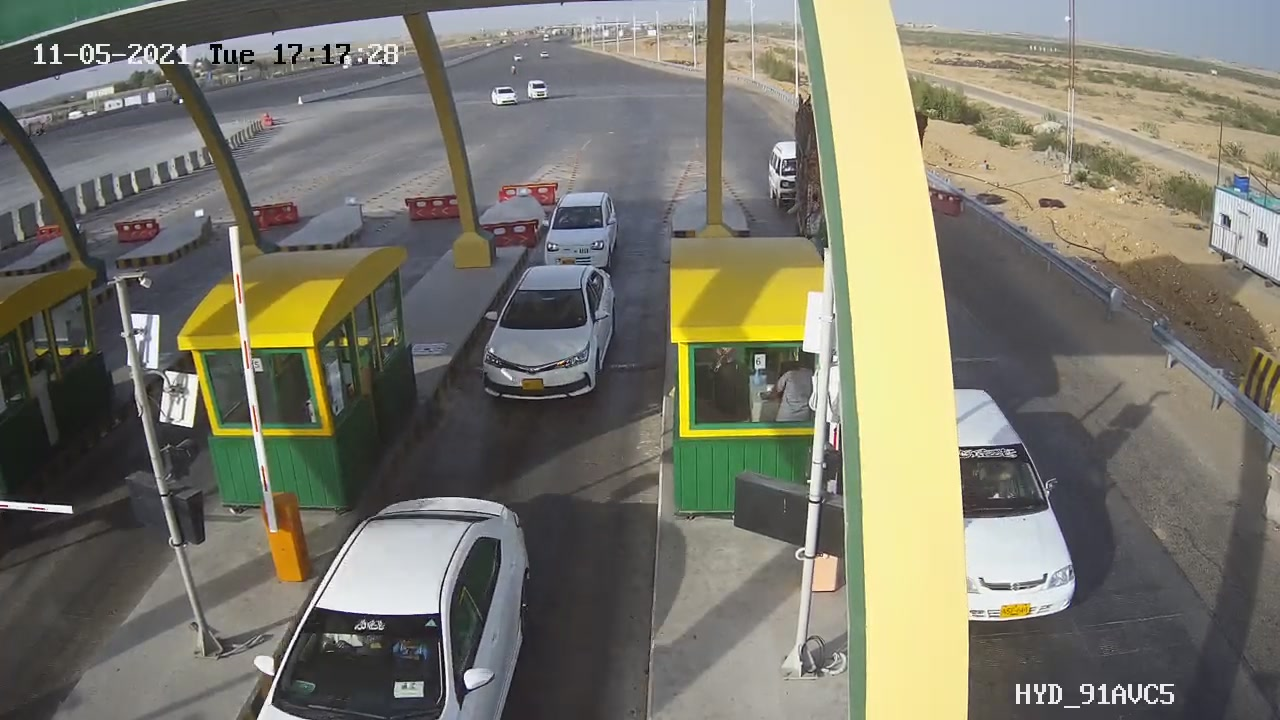F1: (466, 252, 630, 408), (526, 182, 634, 282)
